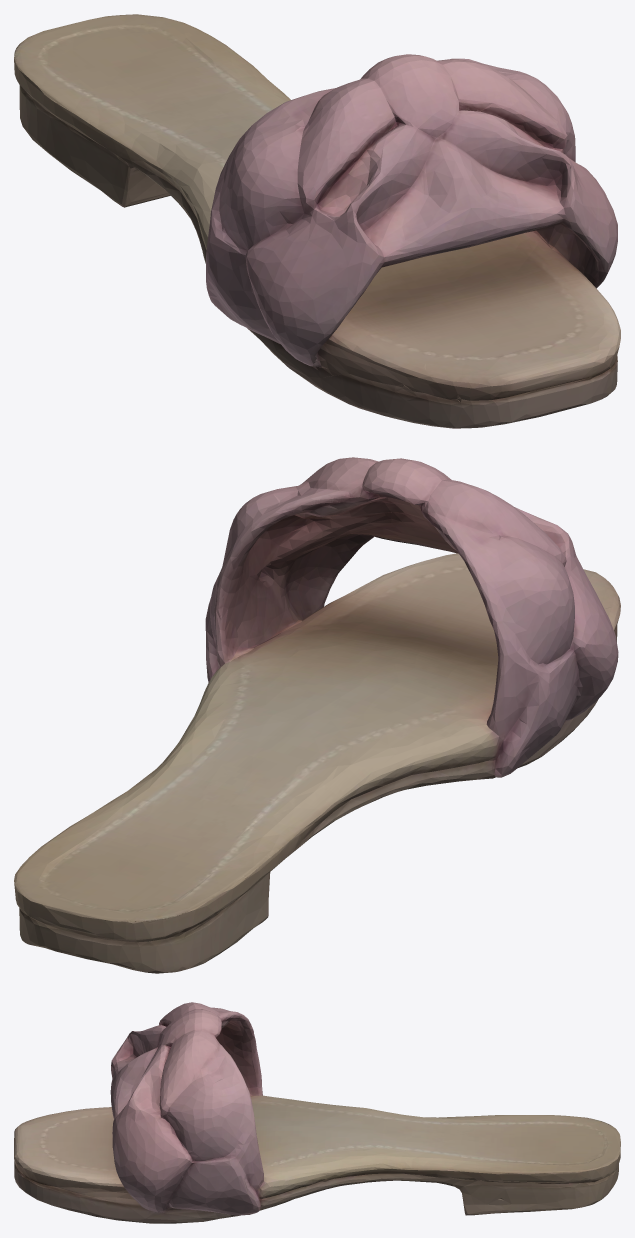
The picture shows the model from 3 angles, top to bottom: view 1: azimuth 30°, elevation 25°; view 2: azimuth 150°, elevation 25°; view 3: azimuth 270°, elevation 25°; orthographic projection. The views are drawn at different scales.
Parts seen in each view (by area): view 1: world; view 2: world; view 3: world.
Boxes of the visible parts, x1,y1,x2,y2 form: world: (14, 14, 620, 428); world: (14, 457, 620, 973); world: (14, 1002, 620, 1223).
Bounding box in the file's own units: 0.4214 × 0.3285 × 1.
1 material, 1 textured.
